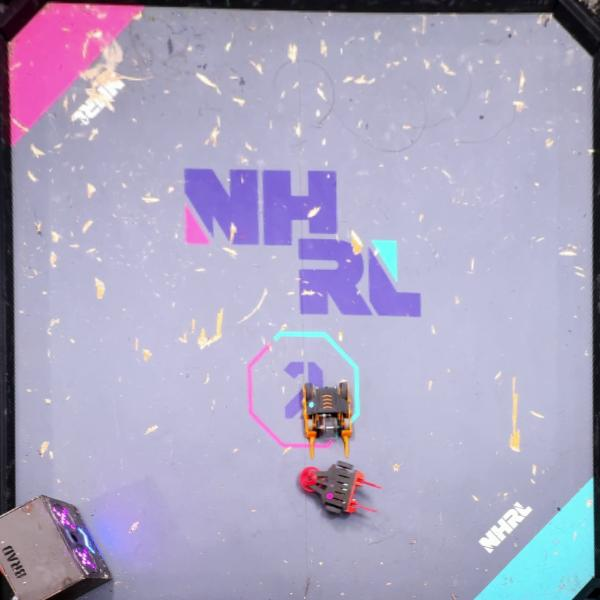housebot: (0, 493, 112, 600)
robot: (296, 462, 382, 518), (296, 381, 354, 460)
